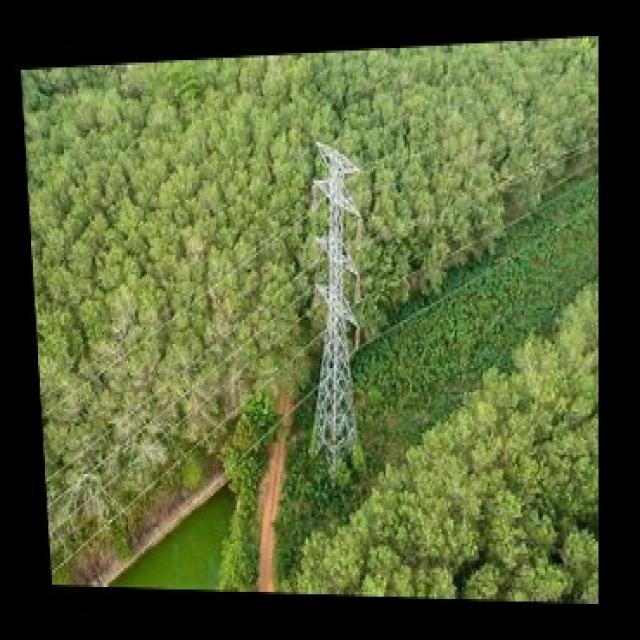utility poles: (282, 131, 389, 498)
